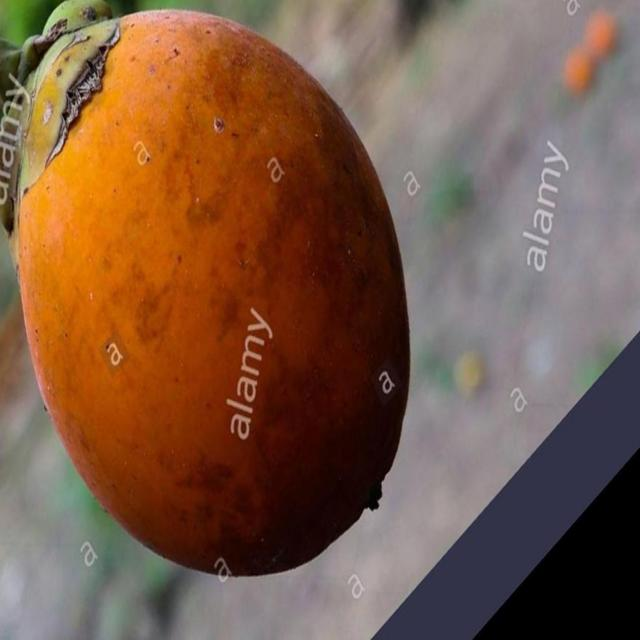good: (8, 10, 412, 580)
